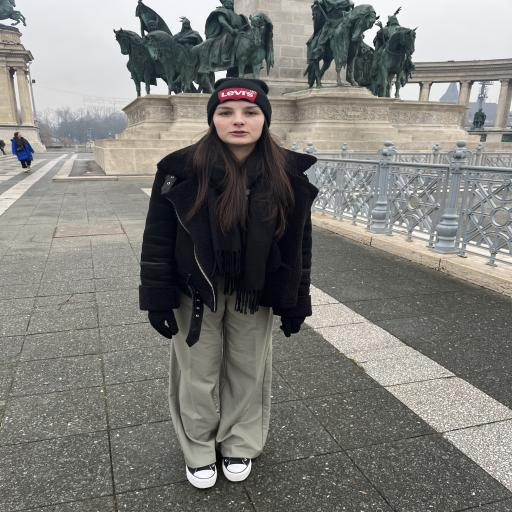marija: (210, 97, 267, 146)
